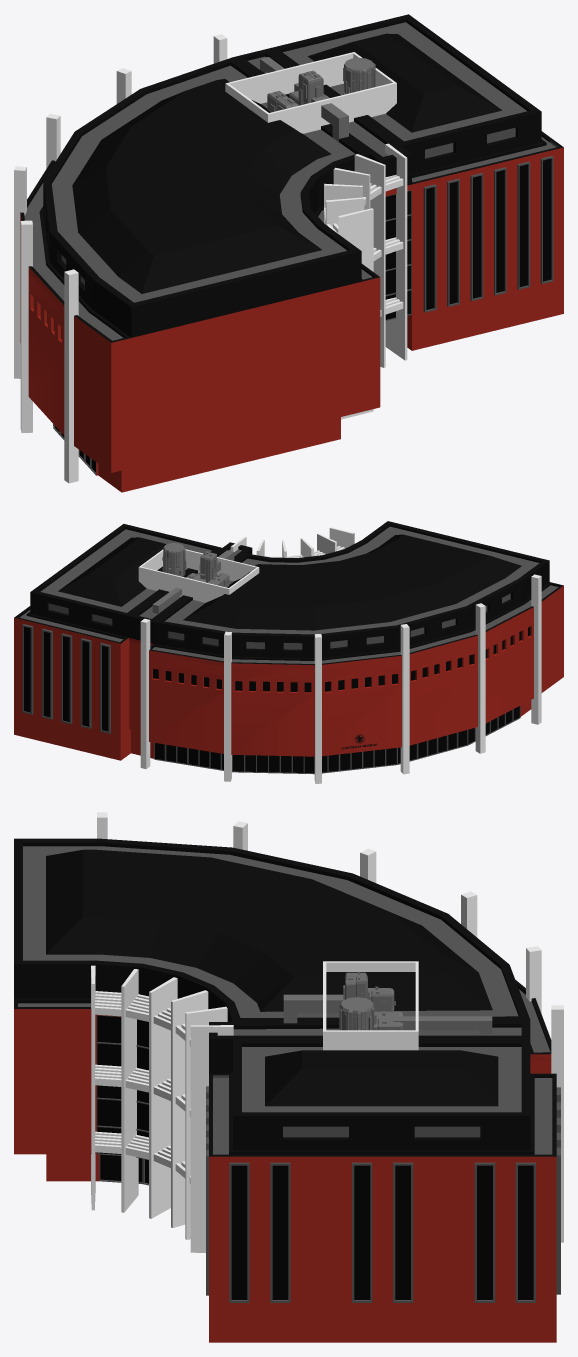
File: Auditorium maximum.obj
3 renders of one model, top to bottom at view 1: azimuth 30°, elevation 25°; view 2: azimuth 150°, elevation 25°; view 3: azimuth 270°, elevation 25°, orthographic. The views are drawn at different scales.
Parts seen in each view (by area): view 1: roof, Main, CadreFenetre, Pilliers, Window, LocalTechnique, details; view 2: Main, roof, CadreFenetre, Window, Pilliers, LocalTechnique, details; view 3: roof, Main, CadreFenetre, Pilliers, Window, details, LocalTechnique.
Boxes of the visible parts, left/top/right/bottom form: roof: left=20, top=14, right=563, bottom=342; Main: left=20, top=147, right=563, bottom=492; CadreFenetre: left=24, top=22, right=558, bottom=475; Pilliers: left=14, top=34, right=407, bottom=483; Window: left=47, top=158, right=551, bottom=472; LocalTechnique: left=225, top=52, right=396, bottom=133; details: left=260, top=57, right=375, bottom=141; Main: left=14, top=586, right=563, bottom=760; roof: left=14, top=521, right=563, bottom=665; CadreFenetre: left=19, top=526, right=558, bottom=774; Window: left=24, top=627, right=530, bottom=773; Pilliers: left=140, top=527, right=541, bottom=783; LocalTechnique: left=138, top=549, right=259, bottom=602; details: left=152, top=543, right=234, bottom=613; roof: left=14, top=838, right=556, bottom=1156; Main: left=14, top=1009, right=556, bottom=1342; CadreFenetre: left=18, top=846, right=560, bottom=1302; Pilliers: left=91, top=812, right=563, bottom=1252; Window: left=97, top=1015, right=533, bottom=1299; details: left=283, top=971, right=492, bottom=1033; LocalTechnique: left=323, top=961, right=418, bottom=1050.
Size of the model in its own units: 224 by 93.29 by 175.
